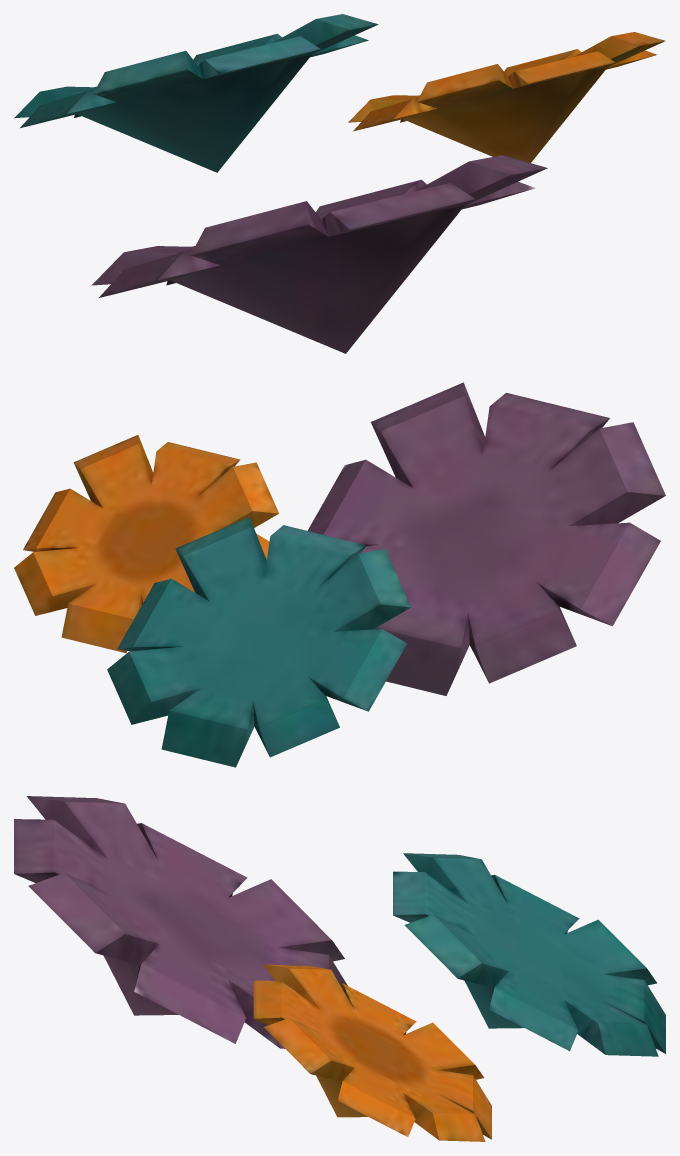
Rendered from FOL_Flower_MID_04.obj.
3 renders of one model, top to bottom at view 1: azimuth 30°, elevation 25°; view 2: azimuth 150°, elevation 25°; view 3: azimuth 270°, elevation 25°, orthographic. The views are drawn at different scales.
Visible parts, largest first — view 1: FOL_Flower_MID_04; view 2: FOL_Flower_MID_04; view 3: FOL_Flower_MID_04.
Boxes of the visible parts, x1,y1,x2,y2 form: FOL_Flower_MID_04: [14, 14, 665, 353]; FOL_Flower_MID_04: [14, 382, 665, 767]; FOL_Flower_MID_04: [14, 796, 665, 1141].
Bounding box in the file's own units: 0.5066 × 0.1643 × 0.5188.
Materials: 1 (1 with a texture image).
